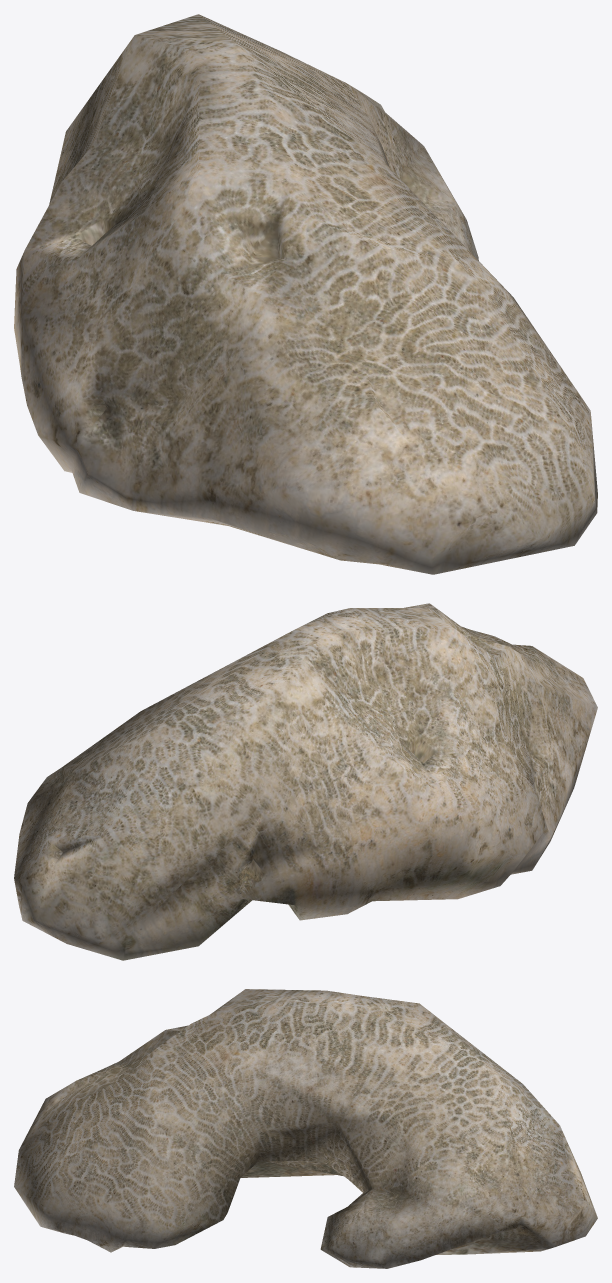
The model's file is coral.glb.
3 renders of one model, top to bottom at view 1: azimuth 30°, elevation 25°; view 2: azimuth 150°, elevation 25°; view 3: azimuth 270°, elevation 25°, orthographic. The views are drawn at different scales.
Visible parts, largest first — view 1: ufilajjfa_LOD0_TIER3_000; view 2: ufilajjfa_LOD0_TIER3_000; view 3: ufilajjfa_LOD0_TIER3_000.
Part boxes in pixels (x1=…): ufilajjfa_LOD0_TIER3_000: x1=14, y1=14, x2=597, y2=574; ufilajjfa_LOD0_TIER3_000: x1=14, y1=603, x2=597, y2=960; ufilajjfa_LOD0_TIER3_000: x1=14, y1=989, x2=597, y2=1268.
Bounding box in the file's own units: 0.1805 × 0.1155 × 0.2923.
1 material, 1 textured.
